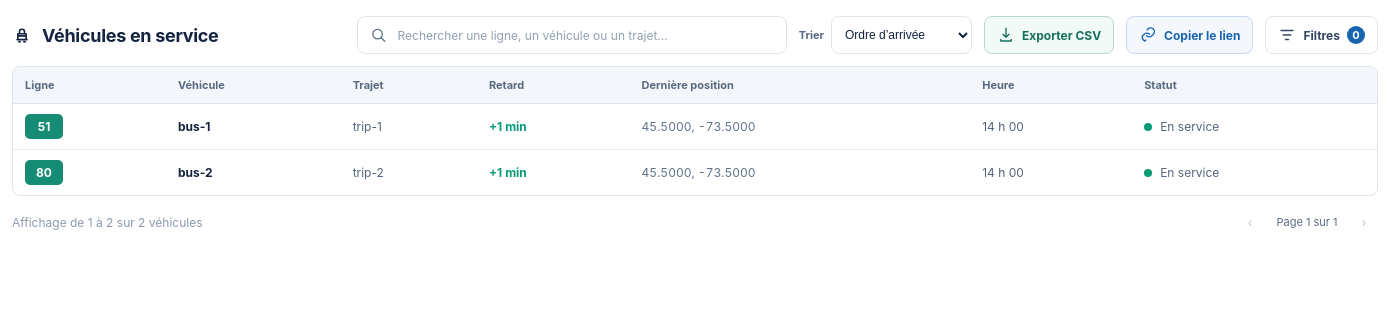
VehicleTable › enables CSV export only when filtered vehicles are available
Expected: the button with aria-label "Exporter les véhicules en CSV" is enabled, [984,16,1114,54]
Type "inexistant" into the search field with placeholder "Rechercher une ligne, un véhicule ou un trajet…" at (585, 35), box [396,26,774,44]
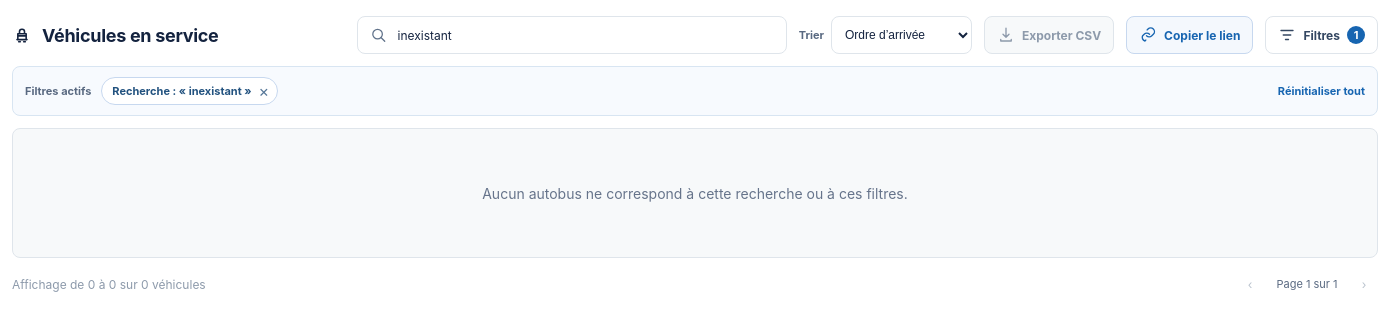
Expected: the button with aria-label "Exporter les véhicules en CSV" is disabled, [984,16,1114,54]
